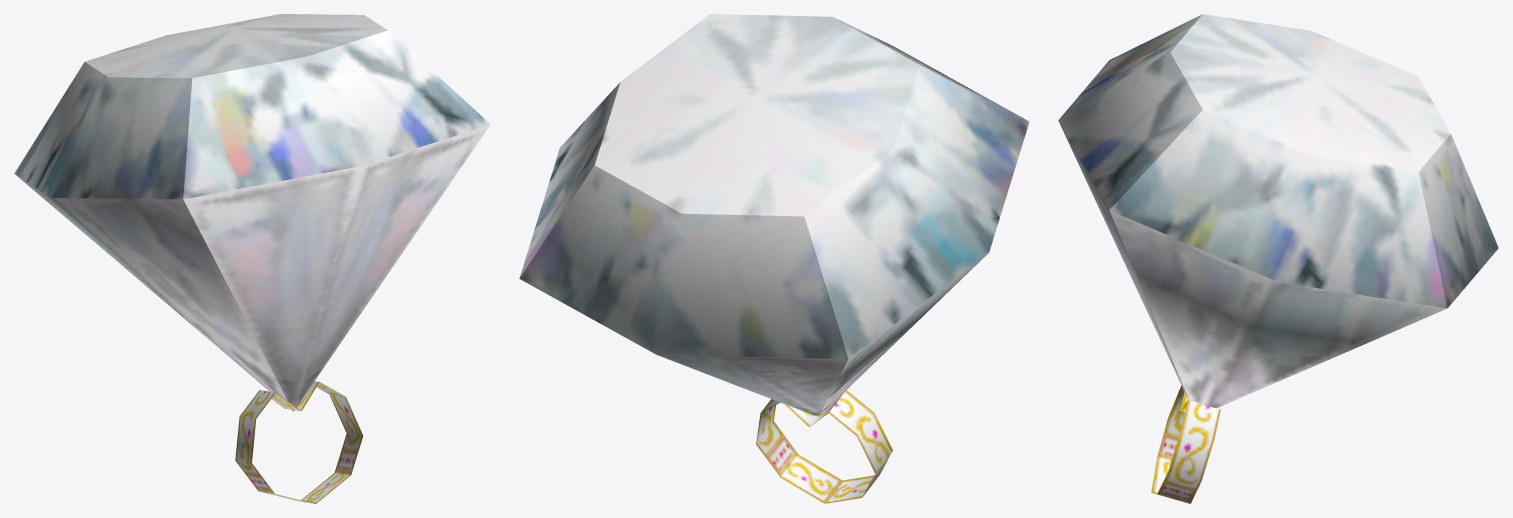
File: ring_0600504.FBX
The picture shows the model from 3 angles, left to right: view 1: azimuth 30°, elevation 25°; view 2: azimuth 150°, elevation 25°; view 3: azimuth 270°, elevation 25°; orthographic projection. The views are drawn at different scales.
Visible parts, largest first — view 1: ring_0600504; view 2: ring_0600504; view 3: ring_0600504.
Part boxes in pixels (left/top/right/bottom): ring_0600504: left=14, top=14, right=490, bottom=503; ring_0600504: left=519, top=14, right=1029, bottom=503; ring_0600504: left=1058, top=14, right=1498, bottom=503.
Size of the model in its own units: 8.94 by 9.59 by 8.5.
